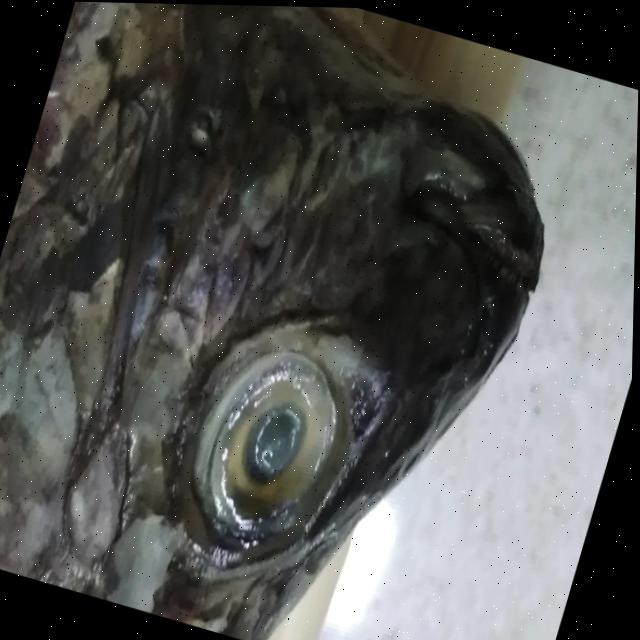Non-Fresh: (166, 310, 386, 570)
